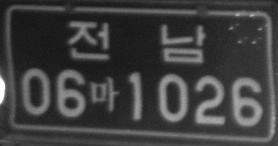0: (19, 66, 52, 116), (157, 72, 189, 123)
1: (123, 71, 152, 121)
2: (194, 74, 226, 126)
6: (230, 75, 263, 128), (55, 68, 88, 118)
마: (89, 75, 120, 113)
전남_D: (67, 18, 207, 64)
